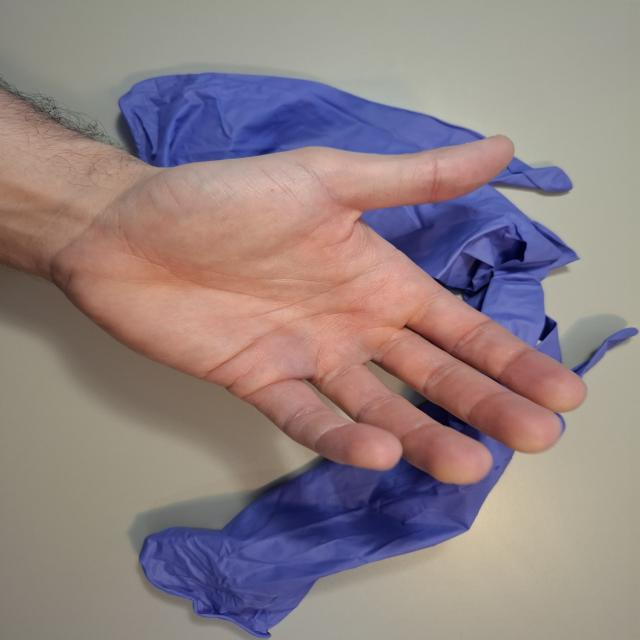glove_off: (46, 130, 594, 490)
